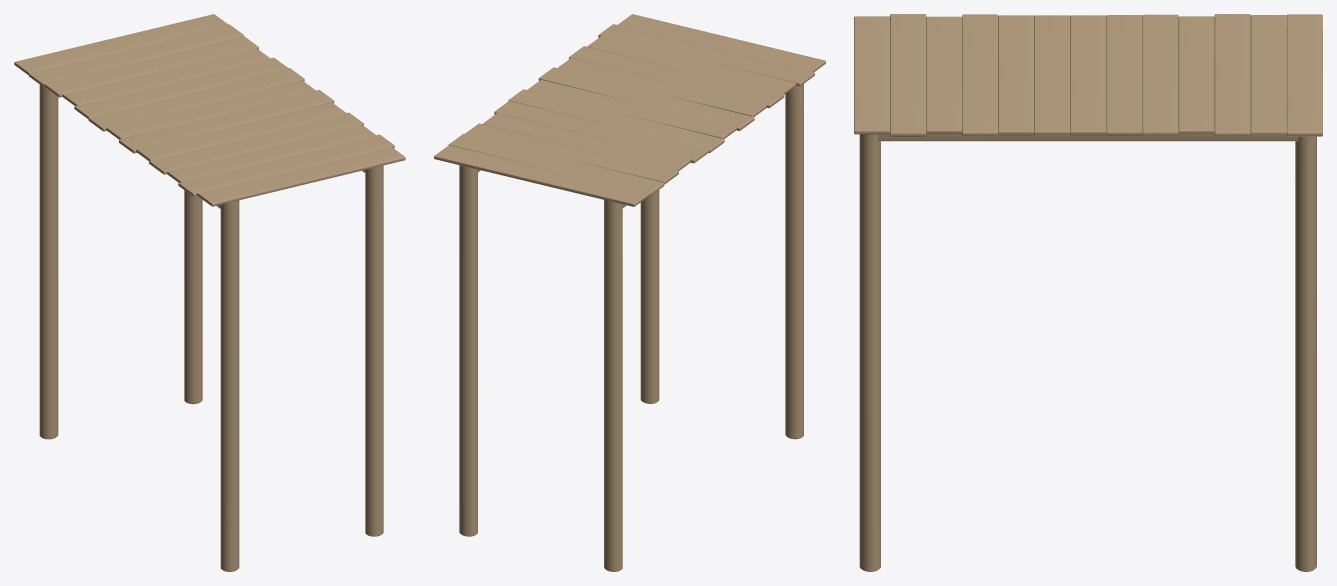
File: SM_bridge_01.glb
The picture shows the model from 3 angles, left to right: view 1: azimuth 30°, elevation 25°; view 2: azimuth 150°, elevation 25°; view 3: azimuth 270°, elevation 25°; orthographic projection. The views are drawn at different scales.
Visible parts, largest first — view 1: SM_bridge_01; view 2: SM_bridge_01; view 3: SM_bridge_01.
Part boxes in pixels (left/top/right/bottom): SM_bridge_01: left=14, top=14, right=405, bottom=571; SM_bridge_01: left=434, top=14, right=825, bottom=571; SM_bridge_01: left=854, top=14, right=1322, bottom=571.
Bounding box in the file's own units: 3.59 × 6.39 × 6.
